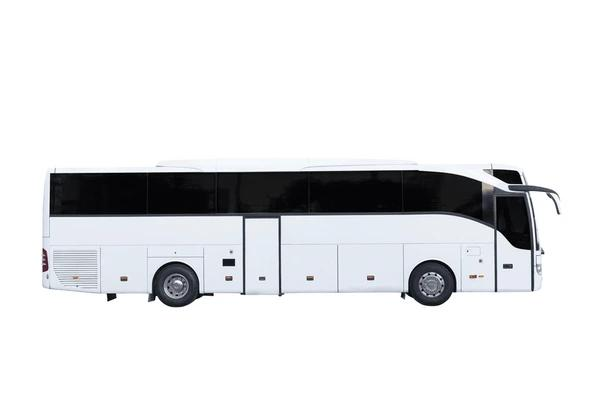bus: (39, 164, 565, 310)
